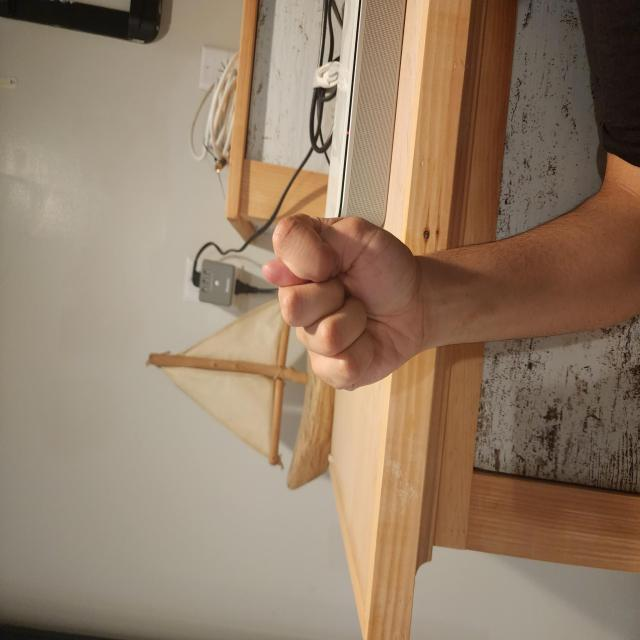T: (181, 343, 325, 570)
